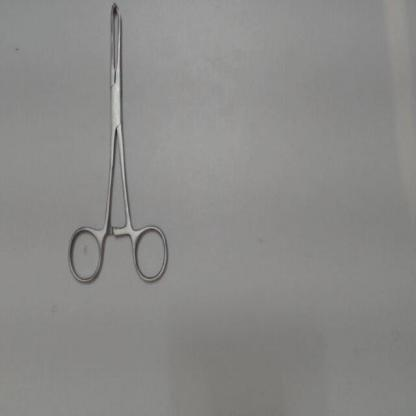Allis Tissue Forceps: (60, 3, 179, 292)
